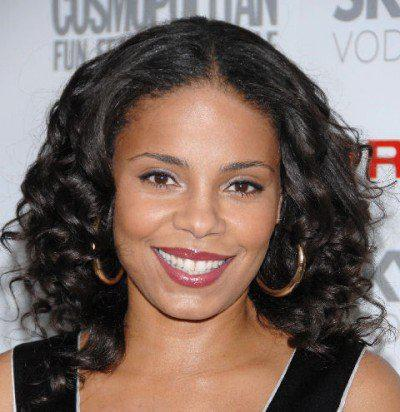Sober: (117, 90, 271, 305)
